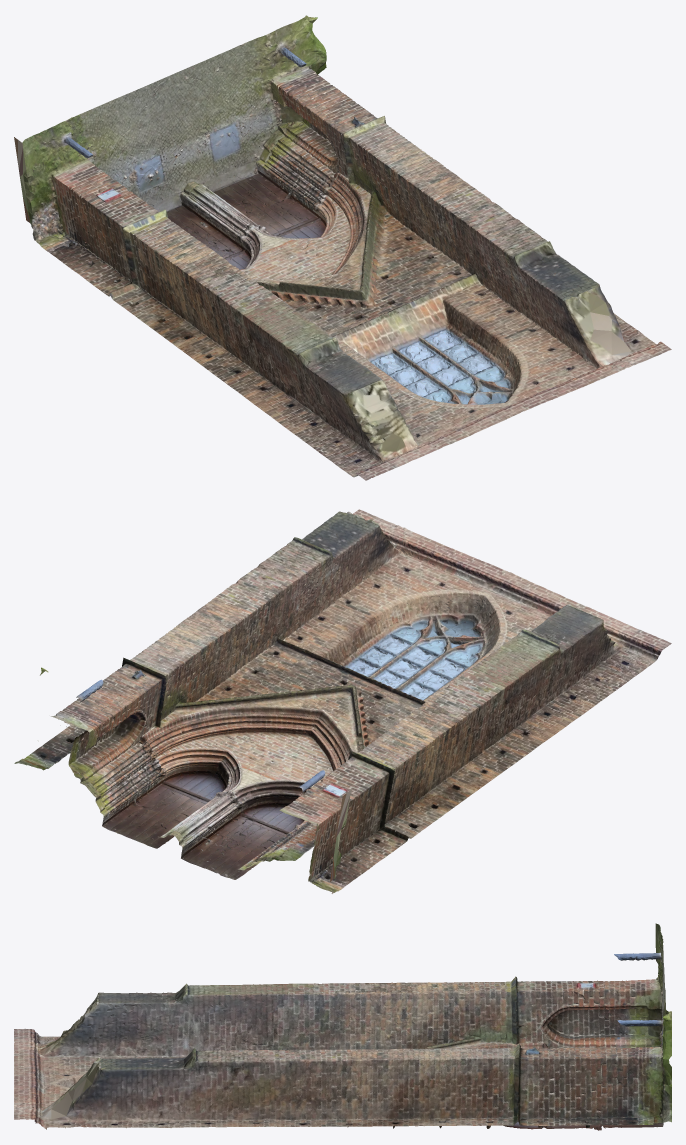
File: church_grand_door.glb
3 renders of one model, top to bottom at view 1: azimuth 30°, elevation 25°; view 2: azimuth 150°, elevation 25°; view 3: azimuth 270°, elevation 25°, orthographic. The views are drawn at different scales.
Visible parts, largest first — view 1: default; view 2: default; view 3: default.
Boxes of the visible parts, x1,y1,x2,y2 form: default: (14, 15, 671, 480); default: (14, 509, 671, 893); default: (14, 923, 671, 1130).
Size of the model in its own units: 7.16 by 3.56 by 12.95.
1 material, 1 textured.
